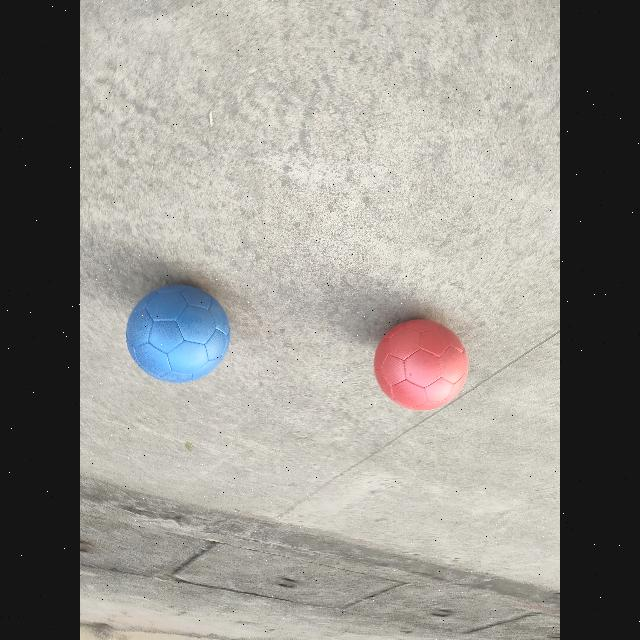B: (126, 282, 230, 382)
R: (374, 318, 468, 410)
